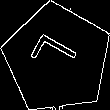L_SE: (28, 33, 87, 84)
